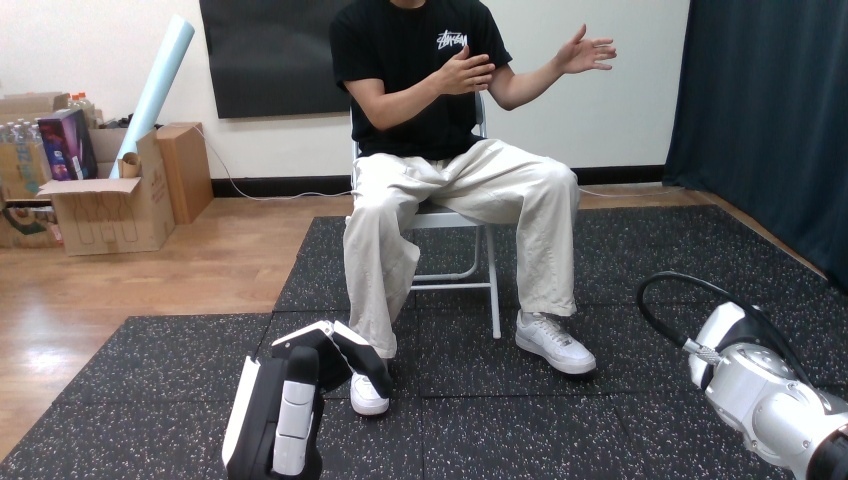left robot hand: (636, 271, 847, 479), (222, 321, 391, 479), (554, 24, 615, 74)
